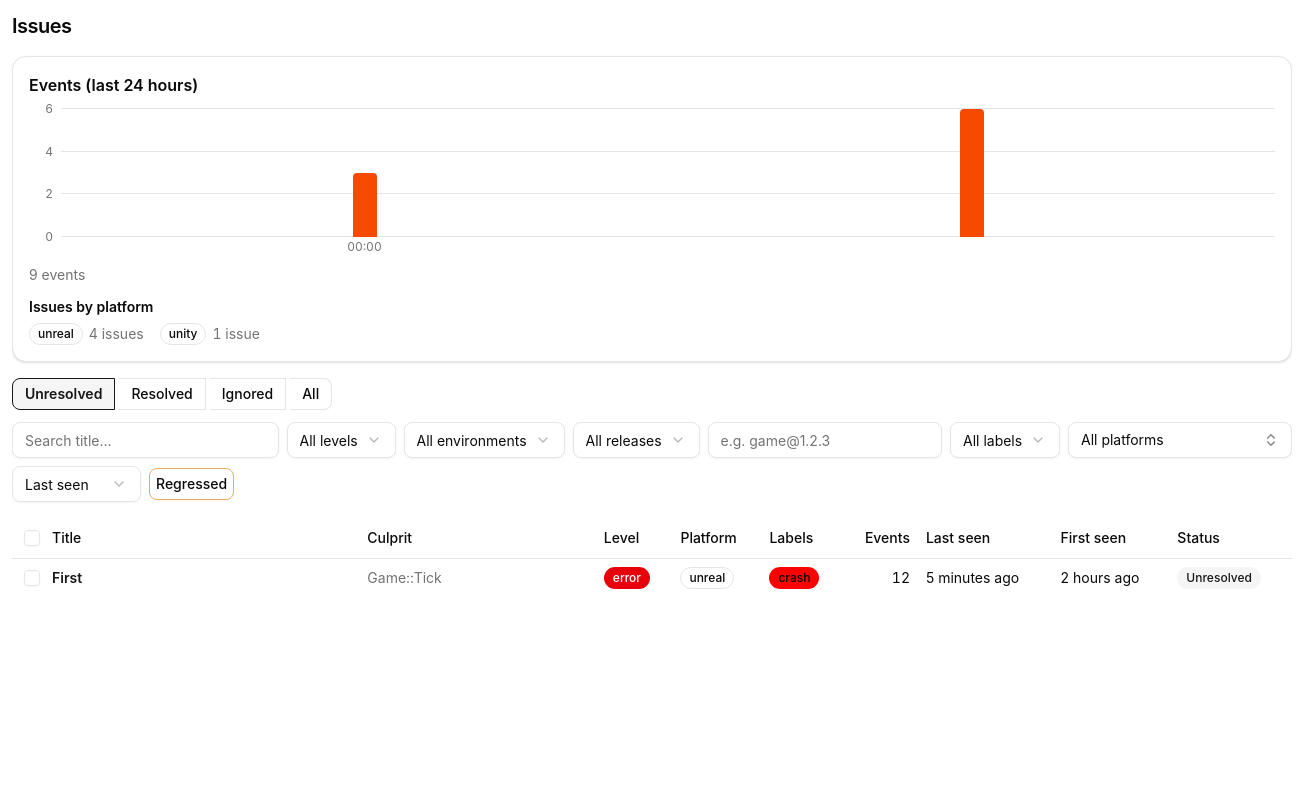
Test: IssuesPage › bulk resolves the selection in the next release
Expected: the link "First" is shown, [52, 568, 82, 586]
Click the checkbox named "Select issue 1" at (32, 578), box [24, 570, 40, 586]
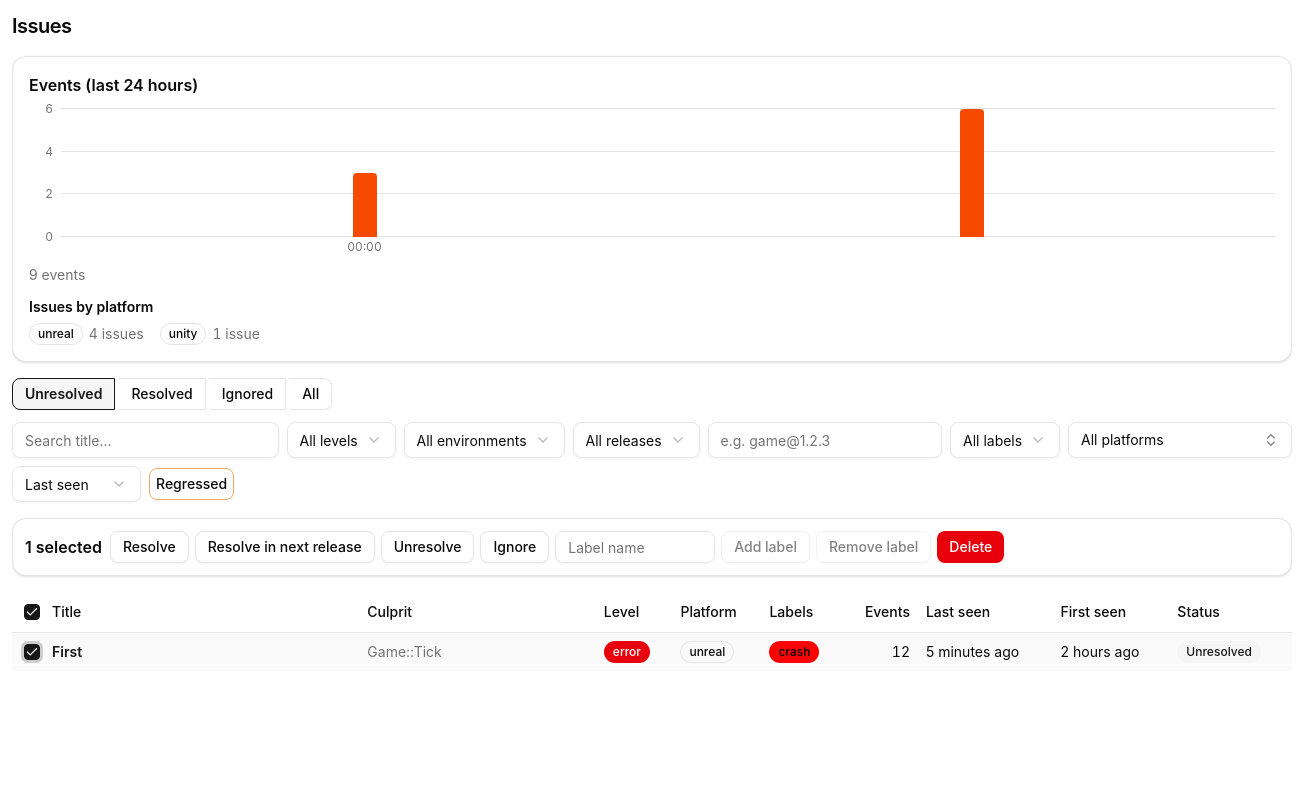
Click the button "Resolve in next release" at (285, 547), box [195, 531, 375, 563]
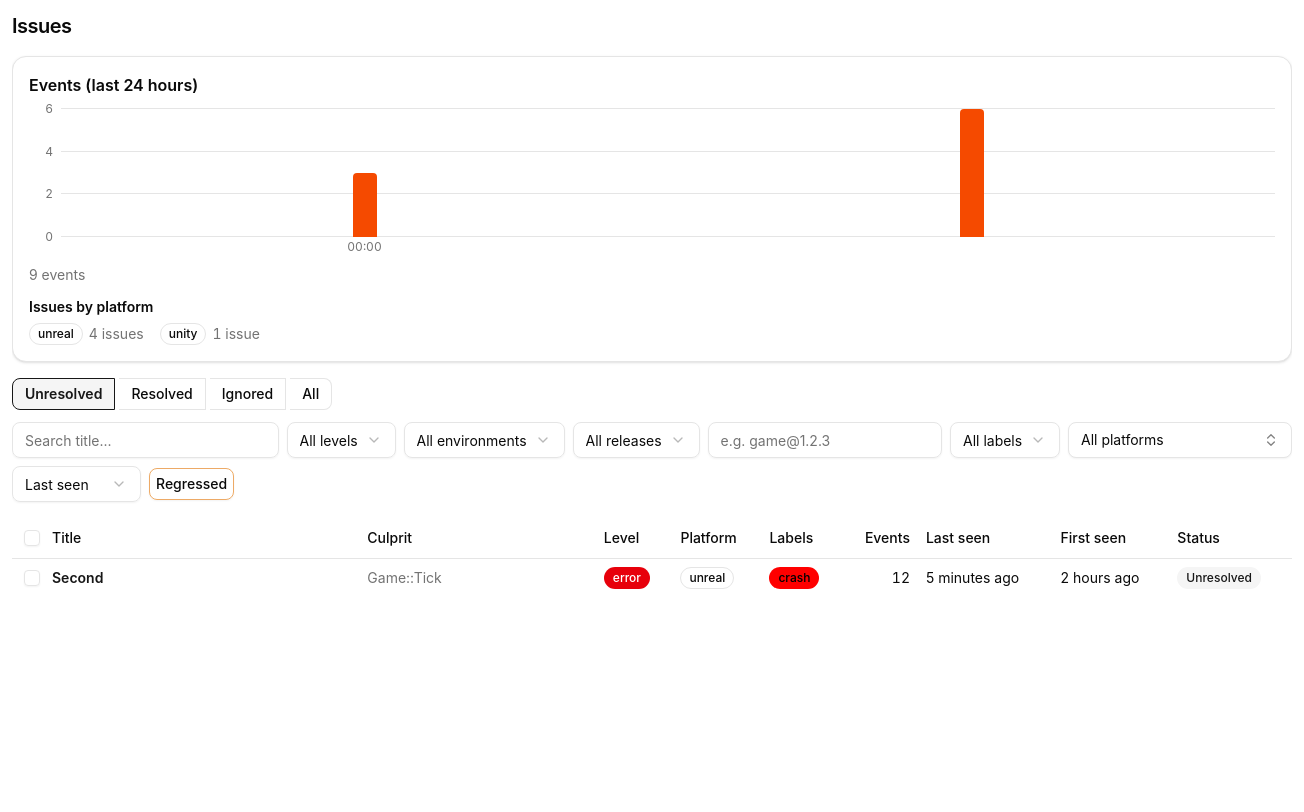
Now the link "Second" is shown, box [52, 568, 103, 586]
Now the text "1 selected" is gone
